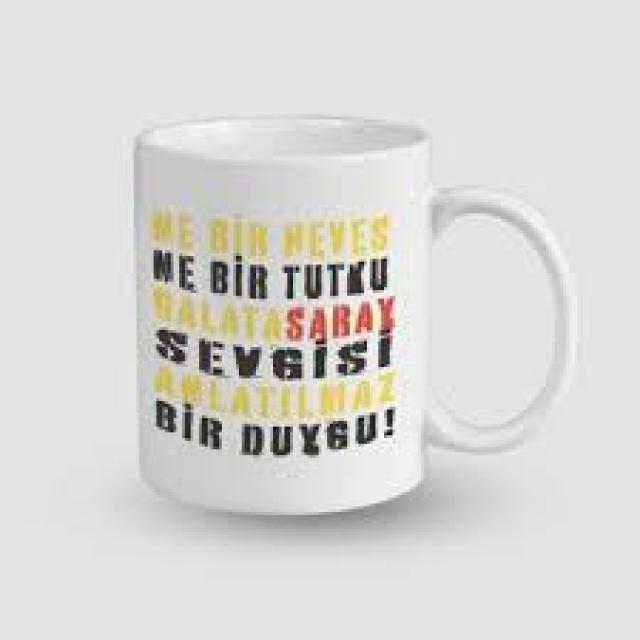taza: (132, 112, 580, 516)
